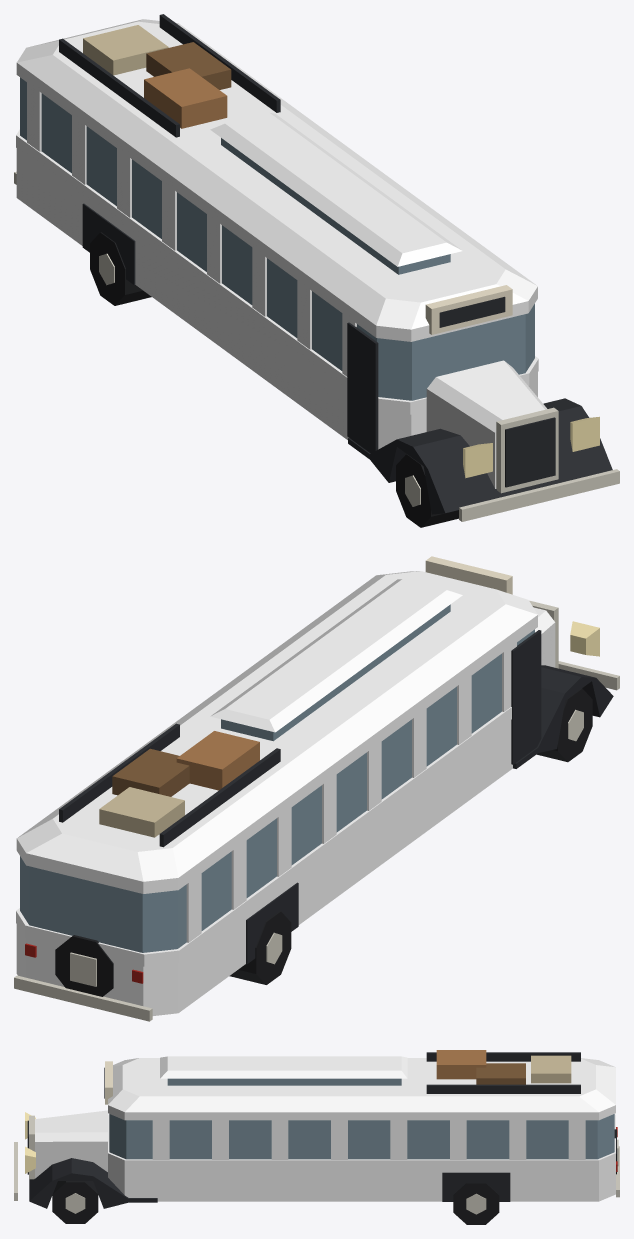
The model's file is bus.glb.
The picture shows the model from 3 angles, top to bottom: view 1: azimuth 30°, elevation 25°; view 2: azimuth 150°, elevation 25°; view 3: azimuth 270°, elevation 25°; orthographic projection. The views are drawn at different scales.
Parts seen in each view (by area): view 1: model; view 2: model; view 3: model.
Boxes of the visible parts, x1,y1,x2,y2 form: model: (14,14,619,527); model: (14,556,619,1021); model: (14,1050,619,1224).
Size of the model in its own units: 2.58 by 3 by 12.17.
